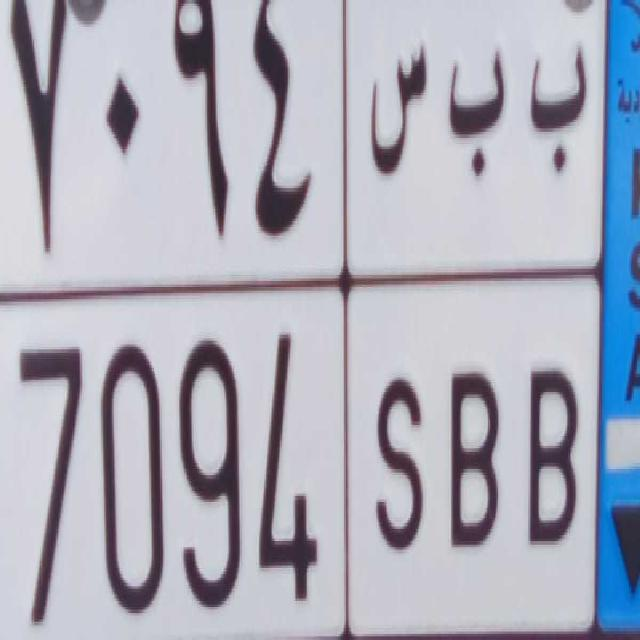license_plate: (0, 277, 598, 640)
